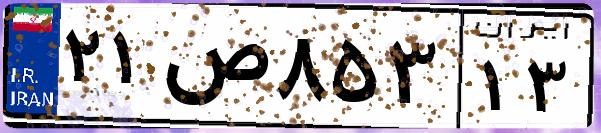1: (475, 38, 525, 113), (110, 28, 158, 98)
2: (57, 26, 110, 100)
3: (385, 28, 445, 110), (525, 38, 570, 115)
5: (330, 28, 385, 110)
8: (270, 28, 330, 110)
ص: (158, 20, 270, 120)
